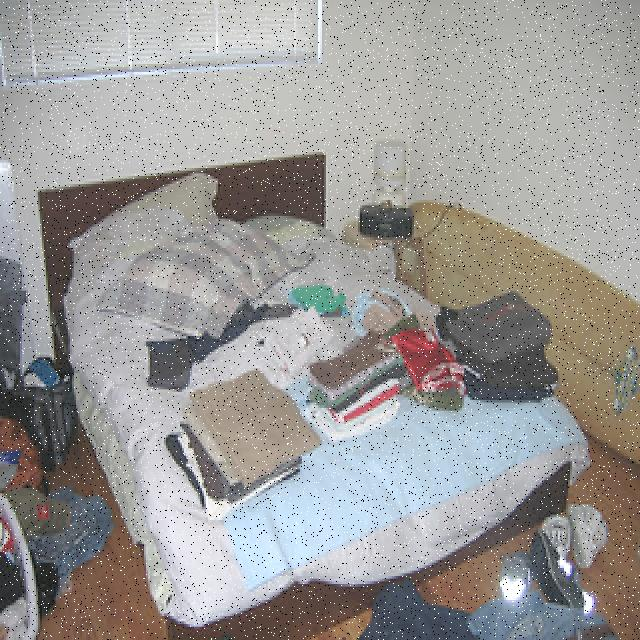bed: (41, 167, 559, 573)
